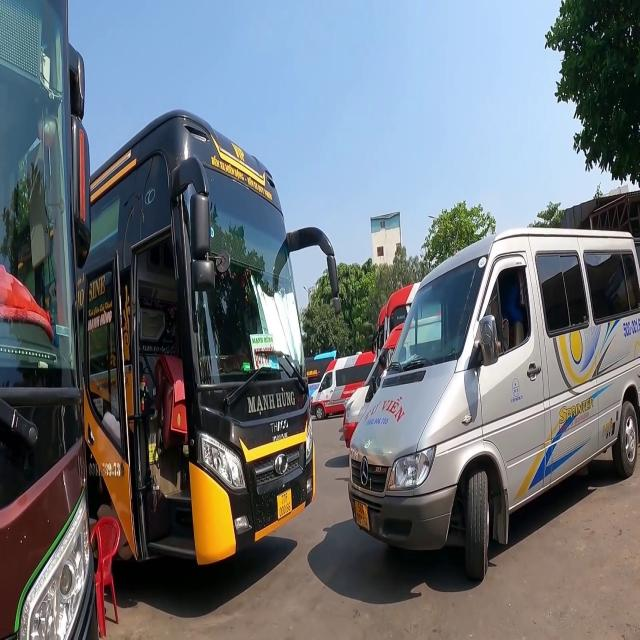bien_vang: (352, 496, 371, 536), (276, 491, 294, 517)
